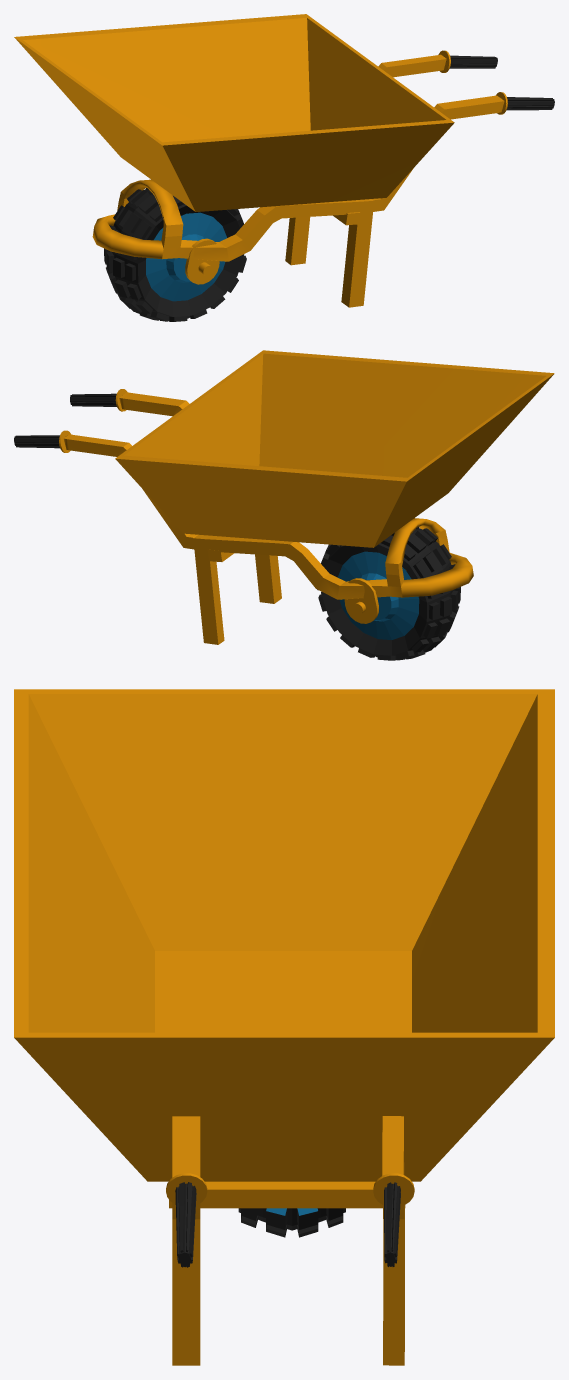
The model's file is wheelbarrow.glb.
3 views of the same model, one above another, from view 1: azimuth 30°, elevation 25°; view 2: azimuth 150°, elevation 25°; view 3: azimuth 270°, elevation 25° (orthographic). The views are drawn at different scales.
Visible parts, largest first — view 1: Object_5, Object_4, Object_2, Object_3; view 2: Object_5, Object_4, Object_2, Object_3; view 3: Object_5, Object_4, Object_2.
Part boxes in pixels (box(x1,y1,x2,y2)): Object_5: box(14, 14, 454, 211); Object_4: box(92, 50, 507, 307); Object_2: box(104, 55, 554, 321); Object_3: box(146, 212, 226, 301); Object_5: box(115, 350, 554, 547); Object_4: box(59, 389, 473, 644); Object_2: box(14, 393, 460, 660); Object_3: box(337, 551, 419, 639); Object_5: box(14, 689, 554, 1181); Object_4: box(166, 1116, 414, 1365); Object_2: box(175, 1182, 400, 1267).
Bounding box in the file's own units: 1.97 × 1.08 × 1.16.
